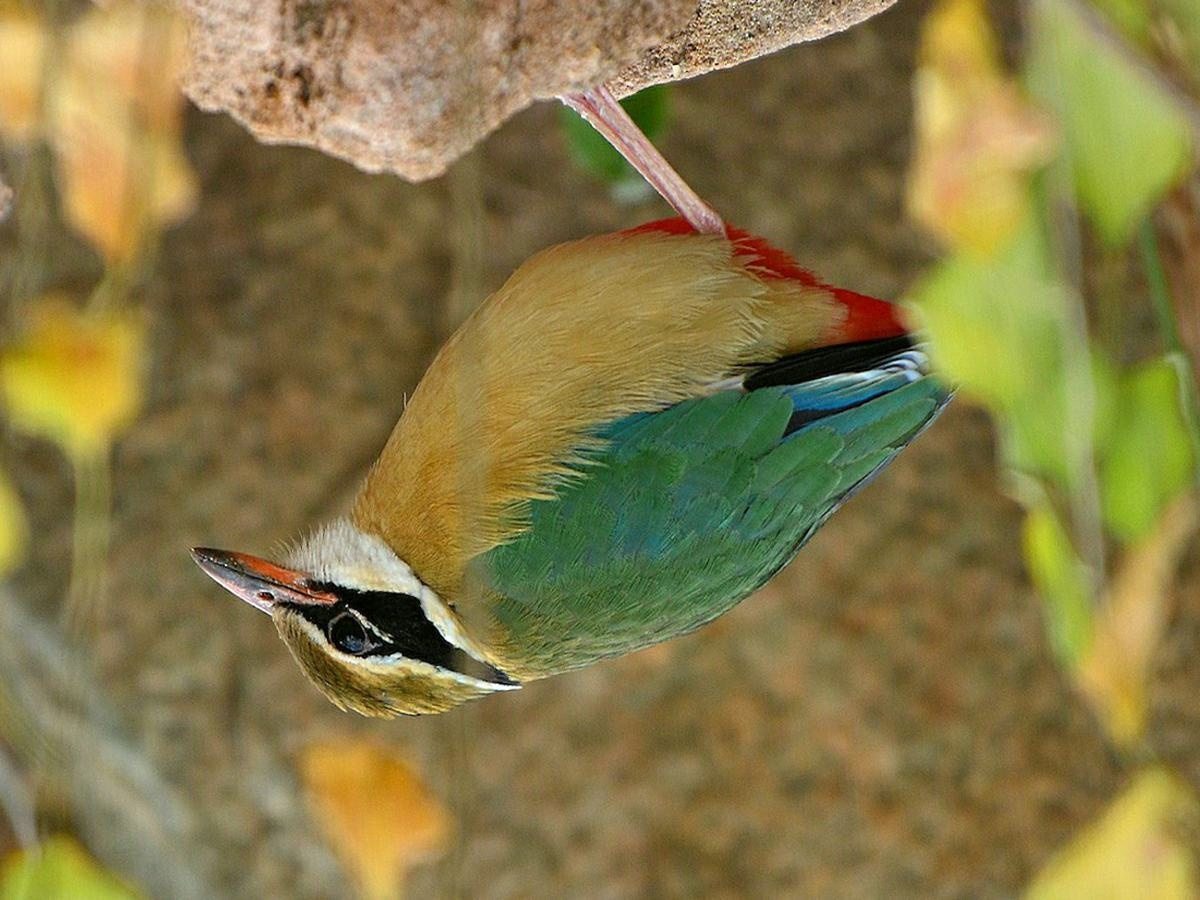pitta: (187, 73, 965, 764)
